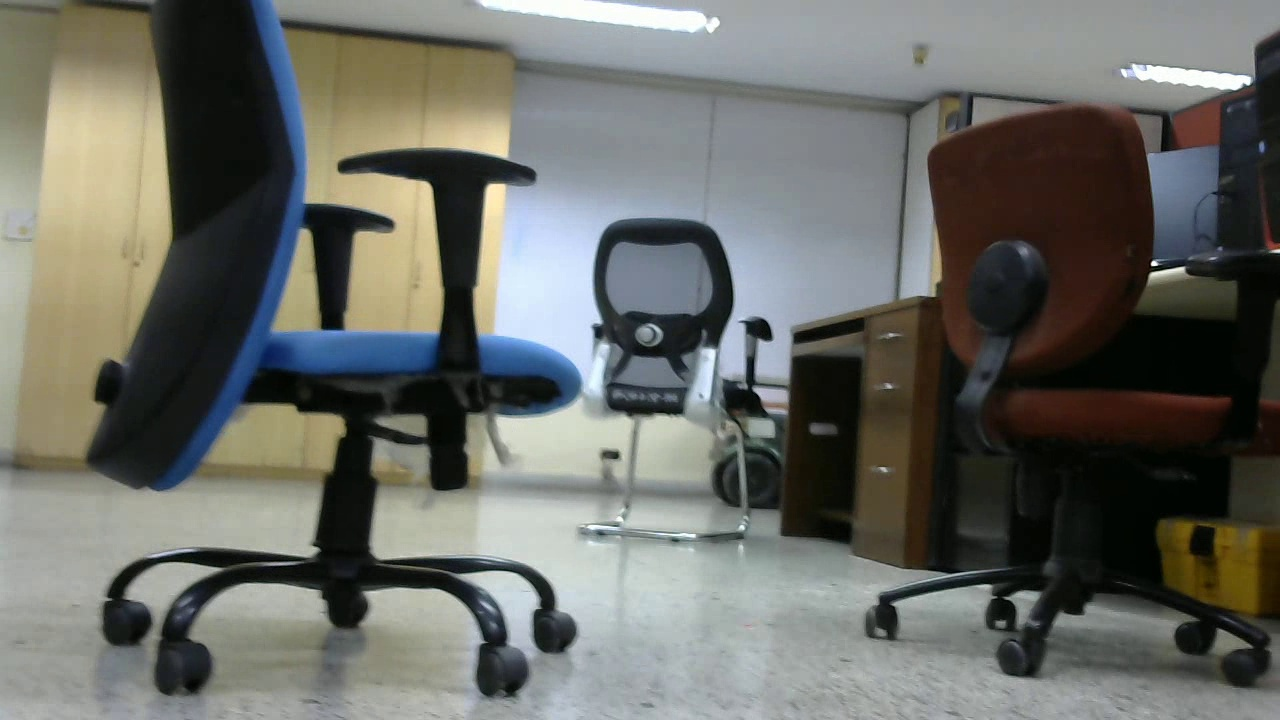chair: (108, 1, 570, 686), (894, 8, 1279, 682), (582, 212, 747, 540)
